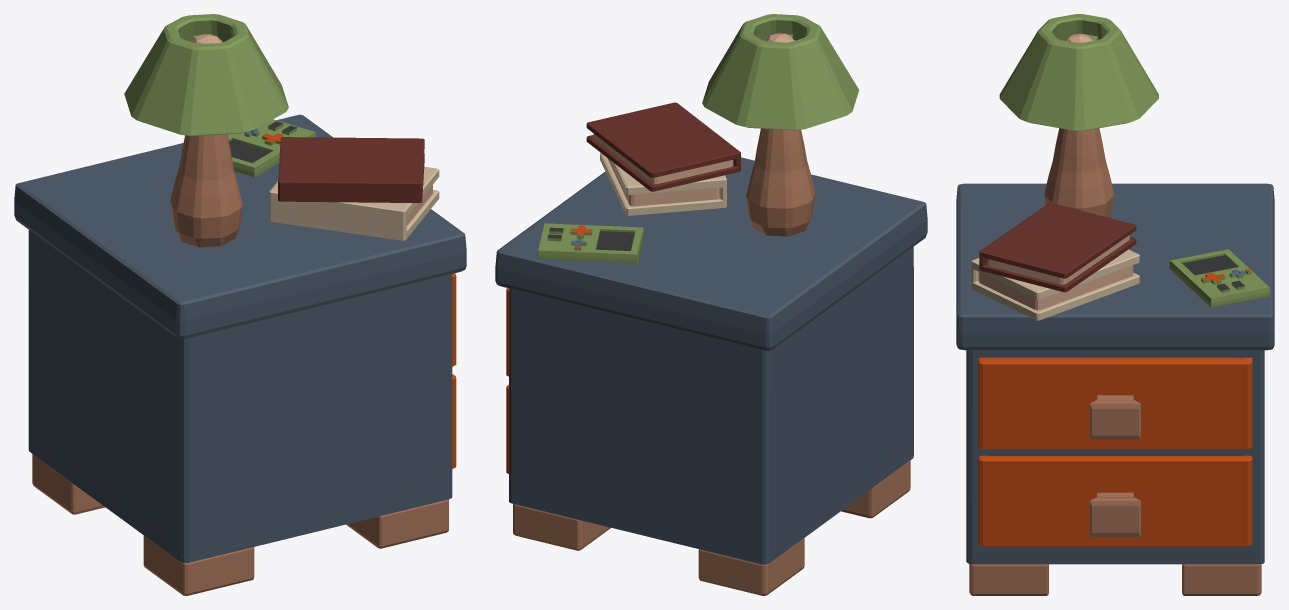
Rendered from bedside_table_singlebedroom.fbx.
3 renders of one model, left to right at view 1: azimuth 30°, elevation 25°; view 2: azimuth 150°, elevation 25°; view 3: azimuth 270°, elevation 25°, orthographic. The views are drawn at different scales.
Visible parts, largest first — view 1: bedside_table_singlebedroom, Cube.058, Cube.064, Cube.108, Cube.065, Cube.061, Cube.059; view 2: bedside_table_singlebedroom, Cube.058, Cube.064, Cube.108, Cube.065, Cube.017, Cube.059, Cube.061; view 3: bedside_table_singlebedroom, Cube.061, Cube.058, Cube.064, Cube.108, Cube.065, Cube.017, Cube.059.
Boxes of the visible parts, x1,y1,x2,y2 form: bedside_table_singlebedroom: (14, 114, 466, 562); Cube.058: (124, 14, 315, 177); Cube.064: (32, 134, 448, 595); Cube.108: (278, 137, 424, 202); Cube.065: (269, 167, 439, 240); Cube.061: (262, 133, 456, 468); Cube.059: (229, 121, 296, 162); bedside_table_singlebedroom: (495, 157, 927, 564); Cube.058: (537, 14, 858, 263); Cube.064: (513, 128, 910, 595); Cube.108: (586, 102, 740, 191); Cube.065: (600, 152, 726, 215); Cube.017: (593, 33, 794, 206); Cube.059: (547, 227, 634, 250); Cube.061: (506, 225, 592, 473); bedside_table_singlebedroom: (956, 183, 1274, 564); Cube.061: (978, 269, 1252, 546); Cube.058: (999, 14, 1270, 307); Cube.064: (969, 128, 1261, 595); Cube.108: (979, 203, 1136, 292); Cube.065: (971, 249, 1139, 320); Cube.017: (978, 33, 1133, 310); Cube.059: (1182, 255, 1244, 290).
Bounding box in the file's own units: 64.55 × 97.66 × 58.59.
